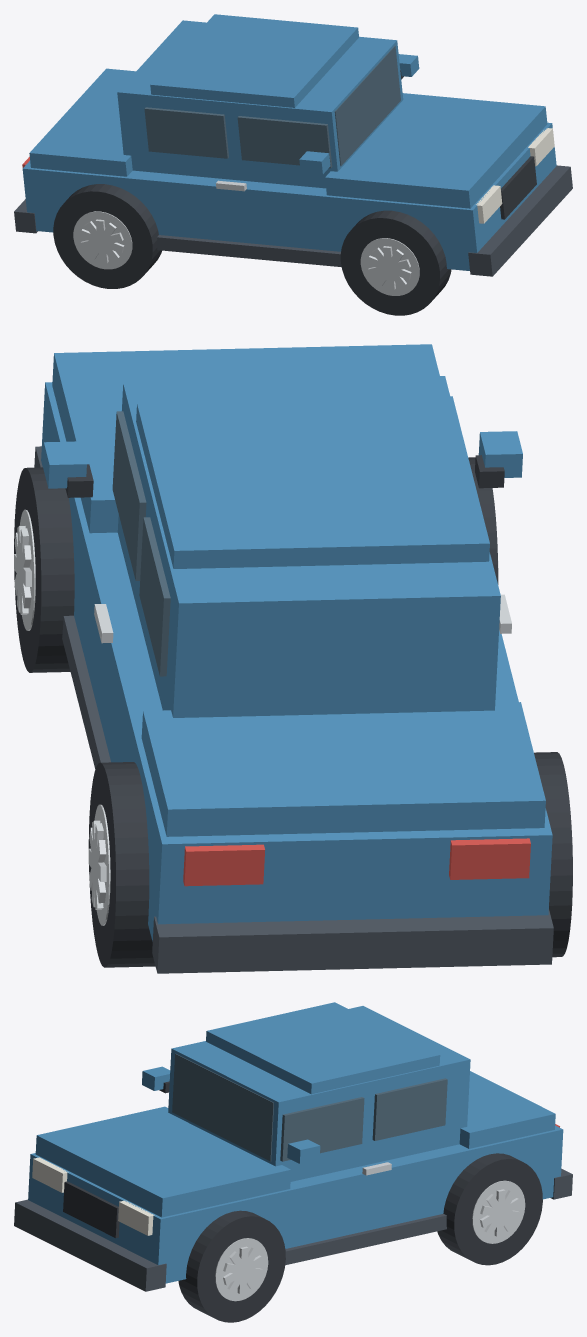
The model's file is car.glb.
3 views of the same model, one above another, from view 1: azimuth 30°, elevation 25°; view 2: azimuth 150°, elevation 25°; view 3: azimuth 270°, elevation 25° (orthographic). The views are drawn at different scales.
Visible parts, largest first — view 1: Main lower body, Front hood, Passenger cabin, Roof, Rear deck, front tire -1, rear tire -1, Front bumper, Front windshield, Front side glass -1, Rear side glass -1, Rocker panel -1 (+8 smaller); view 2: Passenger cabin, Roof, Rear deck, Main lower body, Rear bumper, Front hood, rear tire 1, front tire 1, rear tire -1, Front side glass 1, Tail lamp -1, Tail lamp 1 (+7 smaller); view 3: Main lower body, Front hood, Passenger cabin, Roof, front tire 1, rear tire 1, Front windshield, Front bumper, Rear deck, Rear side glass 1, Front side glass 1, Rocker panel 1 (+8 smaller).
Part boxes in pixels (box(x1,y1,x2,y2)): Main lower body: box(22, 122, 556, 270); Front hood: box(325, 93, 547, 208); Passenger cabin: box(117, 20, 403, 188); Roof: box(150, 14, 358, 107); Rear deck: box(29, 68, 135, 176); front tire -1: box(340, 210, 451, 315); rear tire -1: box(53, 184, 161, 288); Front bumper: box(468, 165, 572, 276); Front windshield: box(334, 45, 400, 166); Front side glass -1: box(237, 116, 332, 168); Rear side glass -1: box(144, 107, 228, 158); Rocker panel -1: box(157, 235, 341, 267); Passenger cabin: box(117, 376, 500, 717); Roof: box(136, 396, 489, 568); Rear deck: box(141, 702, 545, 836); Main lower body: box(41, 382, 552, 941); Rear bumper: box(152, 909, 553, 973); Front hood: box(52, 344, 439, 533); rear tire 1: box(88, 762, 155, 967); front tire 1: box(14, 467, 74, 672); rear tire -1: box(534, 752, 572, 957); Front side glass 1: box(112, 411, 146, 580); Tail lamp -1: box(449, 838, 530, 879); Tail lamp 1: box(183, 844, 264, 886); Main lower body: box(28, 1125, 563, 1283); Front hood: box(35, 1106, 291, 1217); Passenger cabin: box(168, 1006, 470, 1181); Roof: box(206, 1002, 440, 1094); front tire 1: box(178, 1210, 285, 1322); rear tire 1: box(437, 1153, 542, 1265); Front windshield: box(172, 1053, 273, 1161); Front bumper: box(14, 1199, 166, 1291); Rear deck: box(459, 1071, 555, 1148); Rear side glass 1: box(372, 1078, 447, 1140); Front side glass 1: box(280, 1097, 364, 1161); Rocker panel 1: box(285, 1214, 446, 1265).
Bounding box in the file's own units: 4.36 × 2.16 × 4.9.
